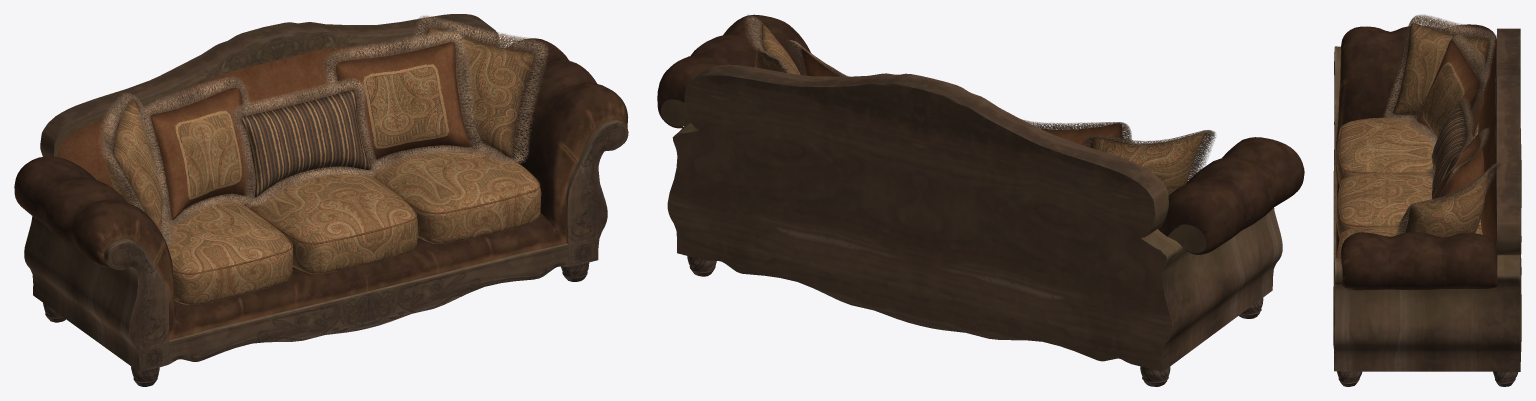
Rendered from SheenWoodLeatherSofa.glb.
3 renders of one model, left to right at view 1: azimuth 30°, elevation 25°; view 2: azimuth 150°, elevation 25°; view 3: azimuth 270°, elevation 25°, orthographic. The views are drawn at different scales.
Visible parts, largest first — view 1: Frame, Paisley, Fringe, Brown, Stripes, Frame_Fabric; view 2: Frame, Paisley, Fringe, Brown; view 3: Frame, Paisley, Fringe, Brown, Frame_Fabric, Stripes.
Part boxes in pixels (x1,y1,x2,y2): Frame: (14,14,628,386); Paisley: (107,27,541,304); Fringe: (99,15,548,245); Brown: (150,42,540,274); Stripes: (175,64,448,199); Frame_Fabric: (58,34,495,189); Frame: (657,14,1304,386); Paisley: (755,23,1205,194); Fringe: (744,14,1215,181); Brown: (801,46,1122,147); Frame: (1333,24,1521,386); Paisley: (1336,23,1488,257); Fringe: (1383,14,1500,235); Brown: (1338,40,1484,257); Frame_Fabric: (1478,39,1496,245); Stripes: (1423,61,1473,198).
Size of the model in its own units: 2.73 by 1.12 by 0.9231.
Materials: 6 (6 with a texture image).
